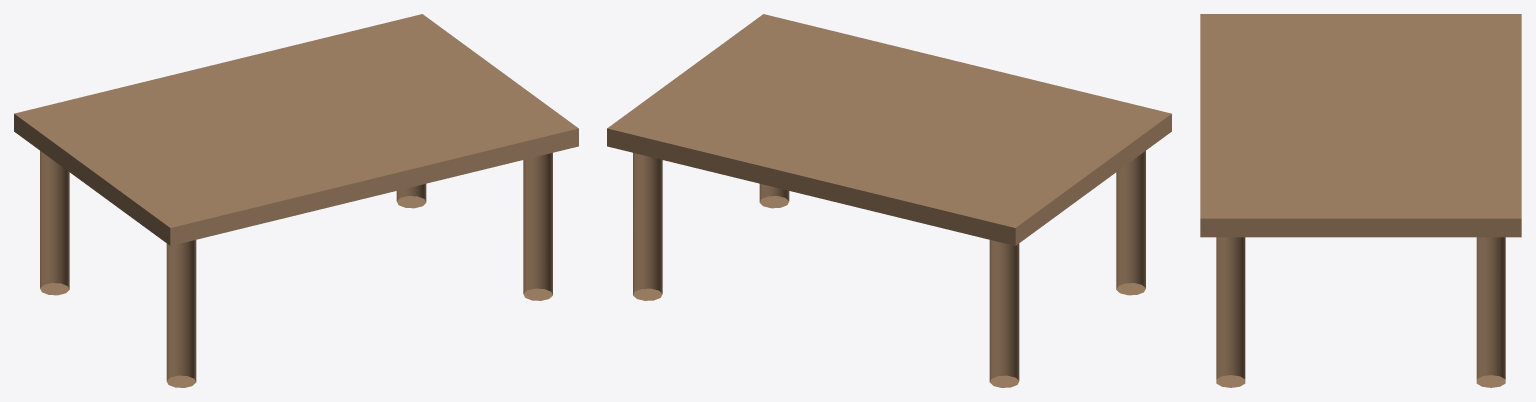
The model's file is coffee_table_02.glb.
The picture shows the model from 3 angles, left to right: view 1: azimuth 30°, elevation 25°; view 2: azimuth 150°, elevation 25°; view 3: azimuth 270°, elevation 25°; orthographic projection. The views are drawn at different scales.
Size of the model in its own units: 0.95 by 0.38 by 0.63.
